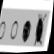correct: (20, 17, 32, 45)
no answer: (8, 17, 19, 42)
not correct: (32, 9, 48, 47)
